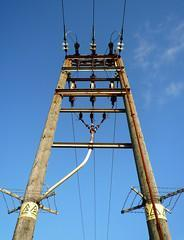power_tower: (13, 33, 172, 240)
